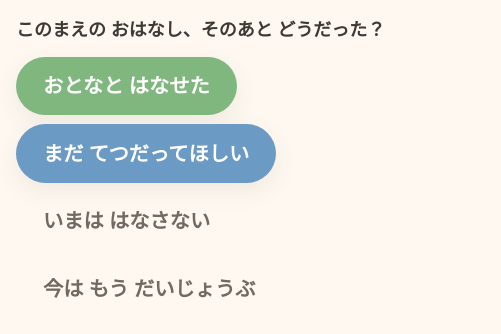
Scenario: does not repeat an answered prompt after reloading when the server has no due followups
This screenshot has width=501, height=334.
Step 1. Click the button "今は もう だいじょうぶ" → (149, 288), box top-left (16, 259), bottom-right (282, 318)
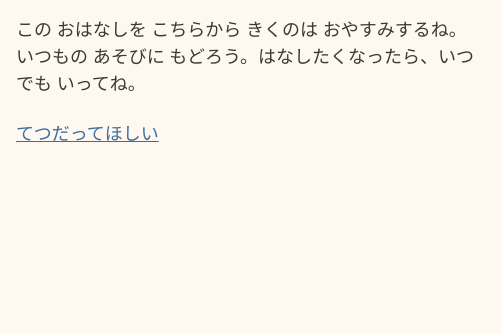
Result: the message "この おはなしを こちらから きくのは おやすみするね。いつもの あそびに もどろう。はなしたくなったら、いつでも いってね。" is shown at top-left (16, 16), bottom-right (484, 97)
